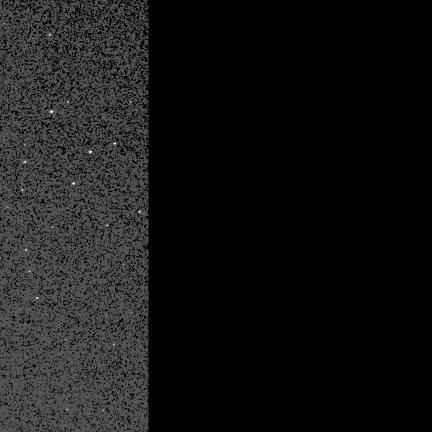blob: (50, 111, 54, 114), (89, 151, 93, 154), (73, 182, 76, 185), (25, 249, 28, 252), (24, 161, 27, 164), (114, 143, 117, 146), (36, 297, 39, 300), (139, 211, 142, 214), (22, 189, 24, 192), (106, 225, 109, 227), (49, 34, 52, 36), (67, 101, 69, 104), (130, 101, 132, 104), (29, 271, 31, 273), (113, 344, 115, 346)
